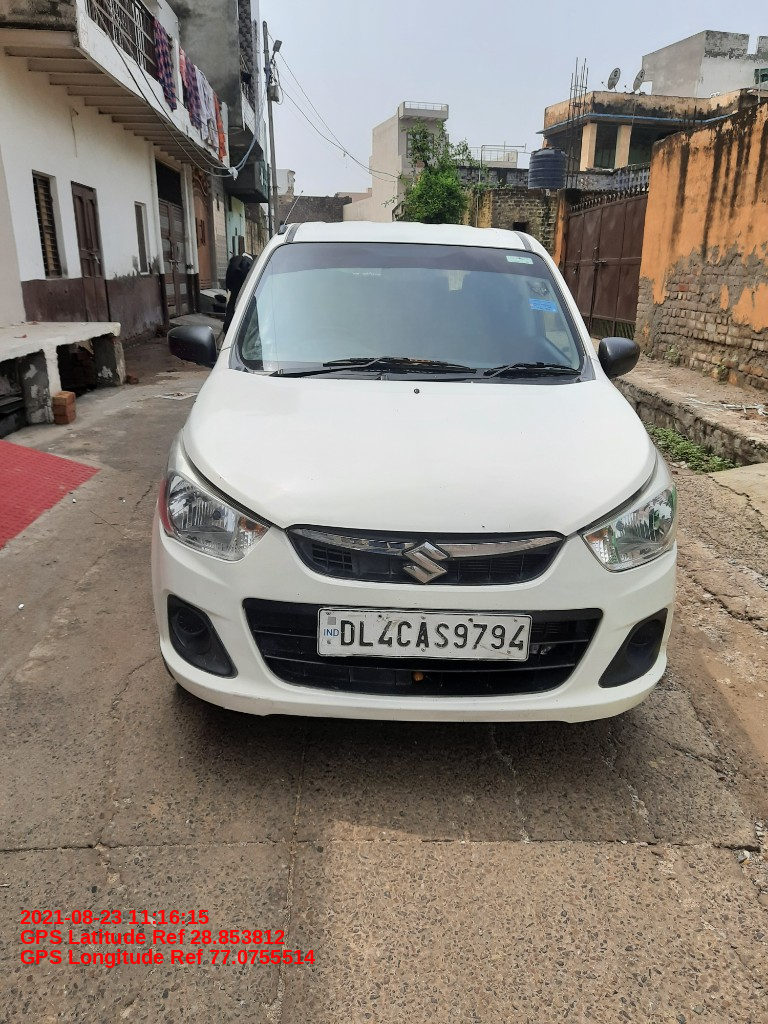Scratched: (225, 687, 281, 710), (476, 518, 493, 533), (214, 470, 229, 486), (291, 587, 303, 599), (407, 599, 426, 606)
